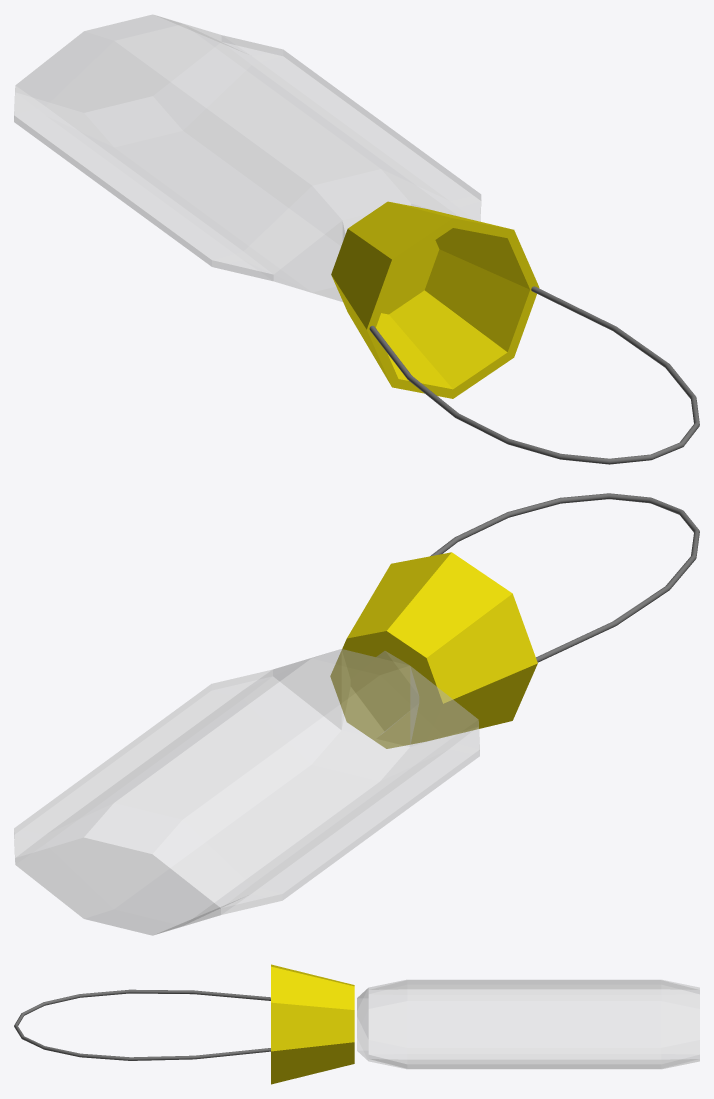
Rendered from mascara.fbx.
3 renders of one model, top to bottom at view 1: azimuth 30°, elevation 25°; view 2: azimuth 150°, elevation 25°; view 3: azimuth 270°, elevation 25°, orthographic. The views are drawn at different scales.
Visible parts, largest first — view 1: Cube, Cylinder, BezierCurve; view 2: Cube, Cylinder, BezierCurve; view 3: Cube, Cylinder, BezierCurve.
Part boxes in pixels (box(x1,y1,x2,y2)): Cube: box(14, 14, 481, 301); Cylinder: box(331, 201, 539, 398); BezierCurve: box(369, 286, 699, 464); Cube: box(14, 649, 479, 935); Cylinder: box(330, 552, 537, 748); BezierCurve: box(430, 493, 699, 662); Cube: box(357, 979, 699, 1069); Cylinder: box(271, 964, 354, 1084); BezierCurve: box(14, 989, 270, 1060).
Size of the model in its own units: 1049 by 673 by 3609.
